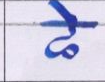e_matra: (48, 1, 80, 21)
